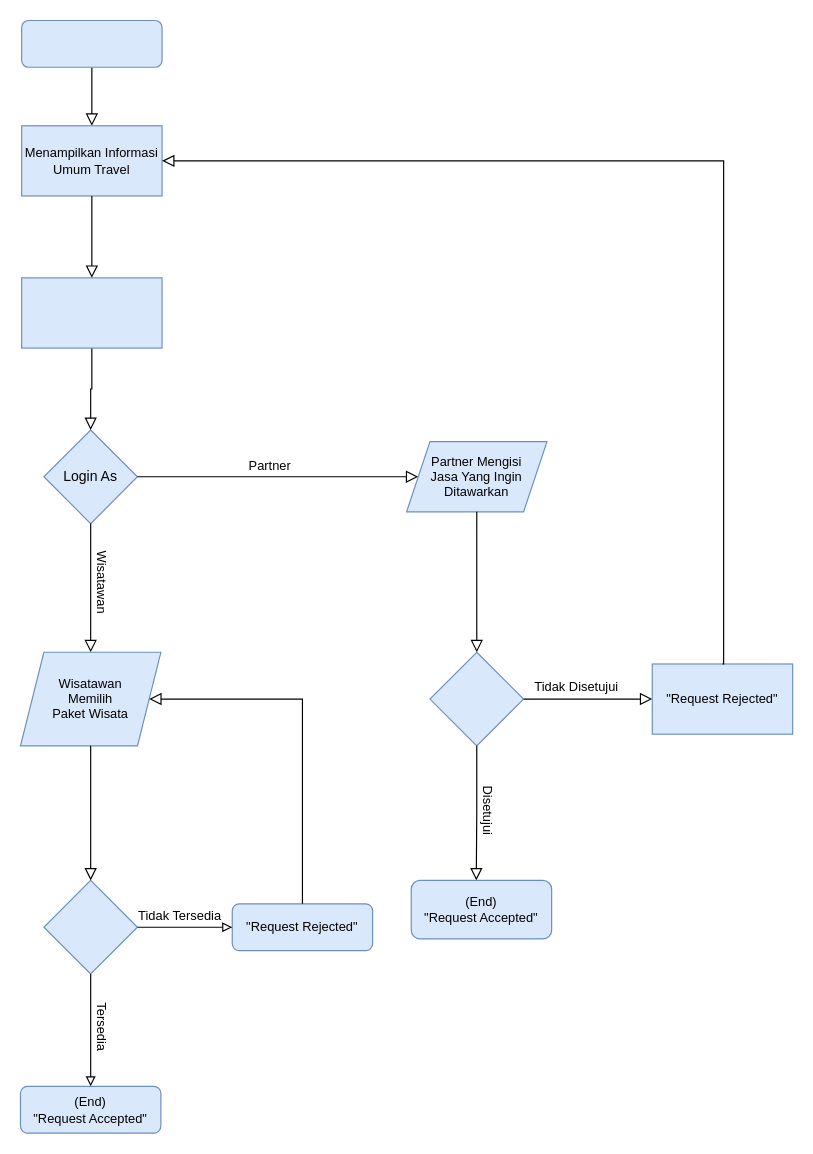
The diagram is 813 pixels wide and 1154 high, and some of its shapes have lost their labels. Here are the shapes that lost their labels. From the top down, the centre of each, then its label:
point (91, 43): (Start) Mulai Aplikasi
point (91, 312): Daftar Wisatawan/Partner
point (476, 698): Menunggu Persetujuan
point (90, 926): Paket Tersedia ?
